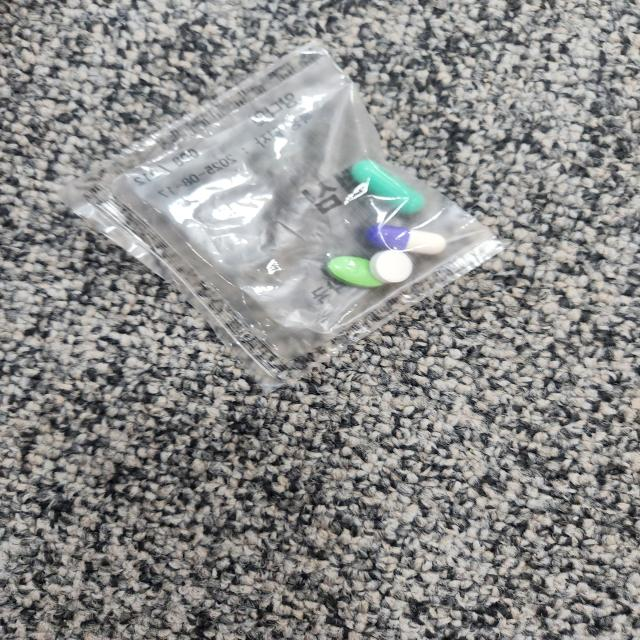러키펜정: (370, 251, 413, 282)
씨엠지세파클러캡슐: (366, 224, 446, 256)
에르도캡슐: (350, 160, 425, 215)
휴티렌정: (325, 257, 387, 290)
